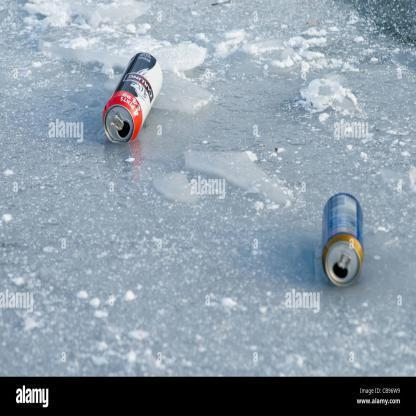can: (100, 52, 162, 142), (321, 193, 365, 287)
